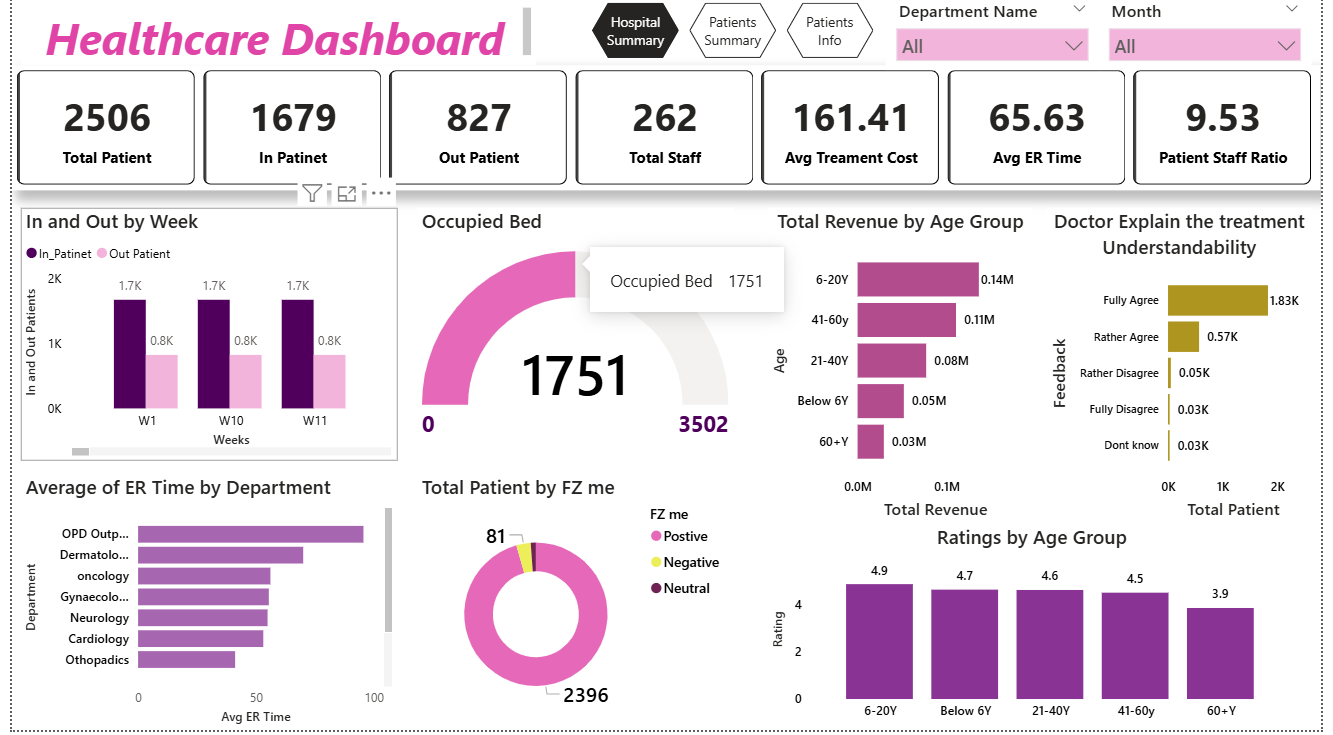

What the dashboard file says about the page in this screenshot:
{"tool":"powerbi","page":{"name":"Hospital Summary","canvas":[1280,720],"ordinal":0},"visuals":[{"type":"cardVisual","fields":{"Data":["Detail data dataset.Total Patient","Detail data dataset.In_Patinet","Detail data dataset.Out Patient","CountNonNull(Staff_Detail.Staff_Id)","Avg(Detail data dataset.treatemencost)","Avg(Detail data dataset.ER_Time)","Detail data dataset.Patient Staff Ratio"]},"box":[0,69.7,1280.3,122.3],"z":0},{"type":"textbox","box":[8.6,8.6,503.8,61.1],"z":1000},{"type":"clusteredColumnChart","title":"In and Out by Week ","fields":{"Y":["Detail data dataset.In_Patinet","Detail data dataset.Out Patient"],"Category":["Calendar_Date.WeekName"]},"box":[8.8,208.8,367.5,247.5],"z":2000},{"type":"gauge","fields":{"Y":["Bed_Detail.Occupied Bed"]},"box":[396.2,208.8,310,247.5],"z":3000},{"type":"barChart","title":"Total Revenue by Age Group","fields":{"Category":["Detail data dataset.Age Bucket"],"Y":["Detail data dataset.Total Revenue"]},"box":[740,208.8,258.8,310],"z":4000},{"type":"barChart","title":"Doctor Explain the treatment Understandability","fields":{"Category":["Detail data dataset.Feedback"],"Y":["Detail data dataset.Total Patient"]},"box":[1012.5,208.8,258.8,310],"z":5000},{"type":"barChart","title":"Average of ER Time by Department","fields":{"Category":["Department.Department_Name"],"Y":["Avg(Detail data dataset.ER_Time)"]},"box":[8.6,470,368.6,250],"z":6000},{"type":"donutChart","fields":{"Category":["Detail data dataset.FZ me"],"Y":["Detail data dataset.Total Patient"]},"box":[395.7,470,310,250],"z":7000},{"type":"columnChart","title":"Ratings by Age Group","fields":{"Y":["Detail data dataset.Ratings"],"Category":["Detail data dataset.Age Bucket"]},"box":[740,518.6,515.7,201.4],"z":8000},{"type":"slicer","fields":{"Values":["Department.Department_Name"]},"box":[854.3,0,208.6,74.3],"z":9000},{"type":"slicer","fields":{"Values":["Calendar_Date.MonthName"]},"box":[1062.9,0,208.6,74.3],"z":10000},{"type":"pageNavigator","box":[567.1,8.6,277.1,54.3],"z":11000}]}

Visuals, with their boxes in screenshot pixels (x1, y1, x2, y2), scaled from the page's 1280x720 canvas onto the 1333x735 screenshot:
cardVisual - Detail data dataset.Total Patient x Detail data dataset.In_Patinet: 0/71/1332/196
textbox: 9/9/534/71
"In and Out by Week " clusteredColumnChart: 9/213/392/466
gauge - Bed_Detail.Occupied Bed: 413/213/735/466
"Total Revenue by Age Group" barChart: 771/213/1040/530
"Doctor Explain the treatment Understandability" barChart: 1054/213/1324/530
"Average of ER Time by Department" barChart: 9/480/393/734
donutChart - Detail data dataset.FZ me x Detail data dataset.Total Patient: 412/480/735/734
"Ratings by Age Group" columnChart: 771/529/1308/734
slicer - Department.Department_Name: 890/0/1107/76
slicer - Calendar_Date.MonthName: 1107/0/1324/76
pageNavigator: 591/9/879/64
